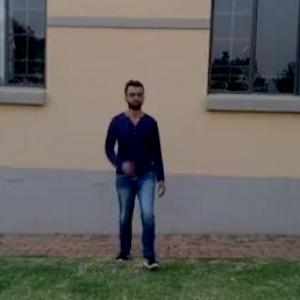follow: (107, 77, 165, 263)
